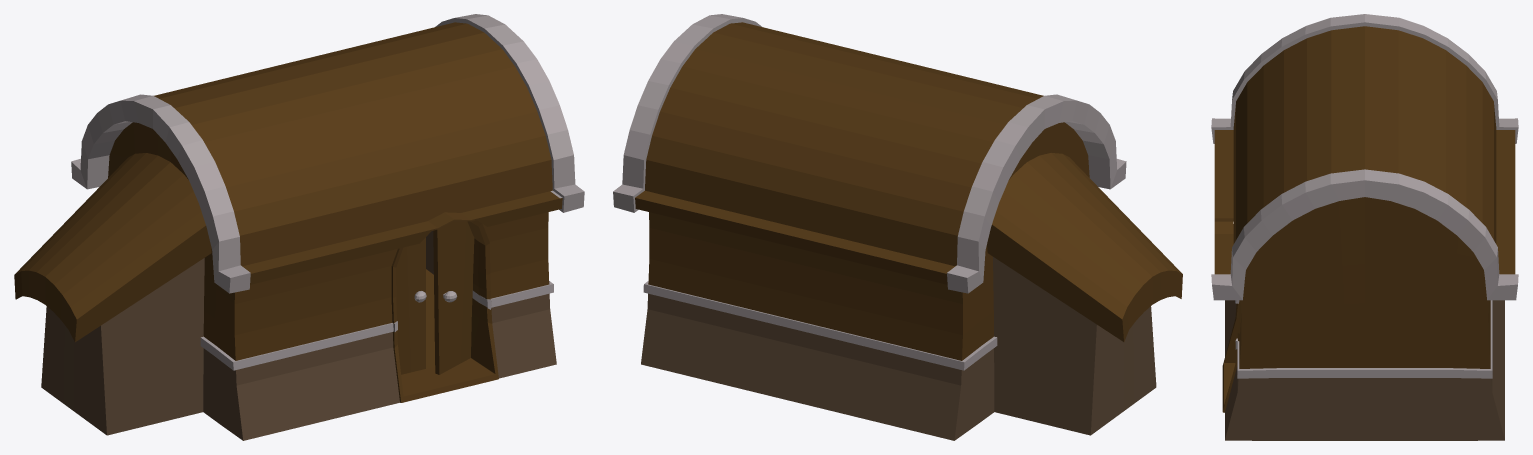
The model's file is siri cascudo.fbx.
3 renders of one model, left to right at view 1: azimuth 30°, elevation 25°; view 2: azimuth 150°, elevation 25°; view 3: azimuth 270°, elevation 25°, orthographic. The views are drawn at different scales.
Parts seen in each view (by area): view 1: Cube; view 2: Cube; view 3: Cube.
Boxes of the visible parts, x1,y1,x2,y2 form: Cube: [14, 14, 584, 440]; Cube: [613, 14, 1182, 440]; Cube: [1211, 14, 1518, 440].
Size of the model in its own units: 1832 by 1075 by 1098.
